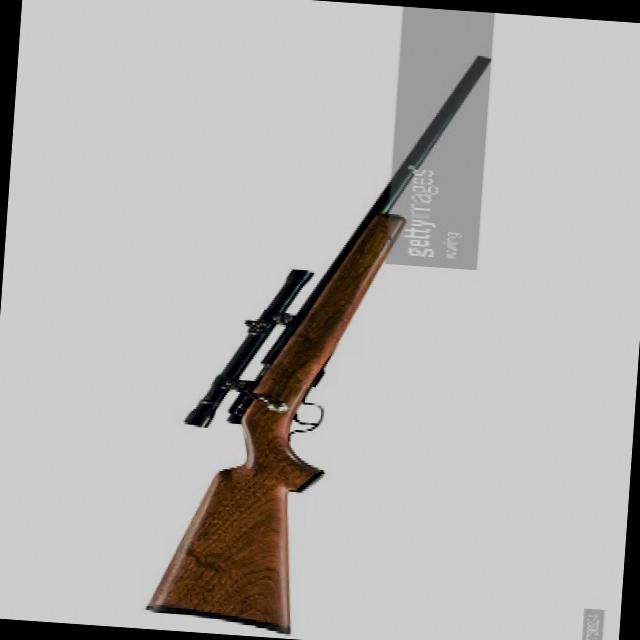long weapon: (132, 25, 494, 639)
